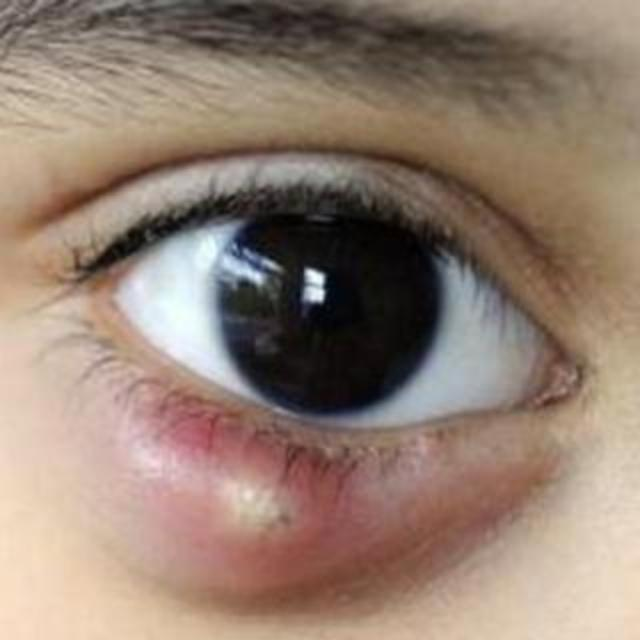Stye: (49, 358, 398, 585)
